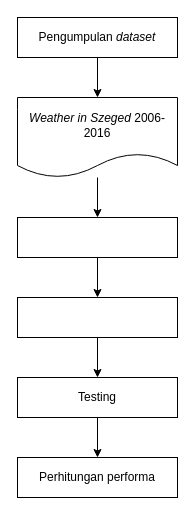
Some shapes in this 195 by 515 pixel diagram are drawn without their labels. The centre of each missing label's shape, as x and y in pixels:
"Pemodelan dengan Linier Regression" belongs at point (97, 237).
"Training" belongs at point (97, 317).
